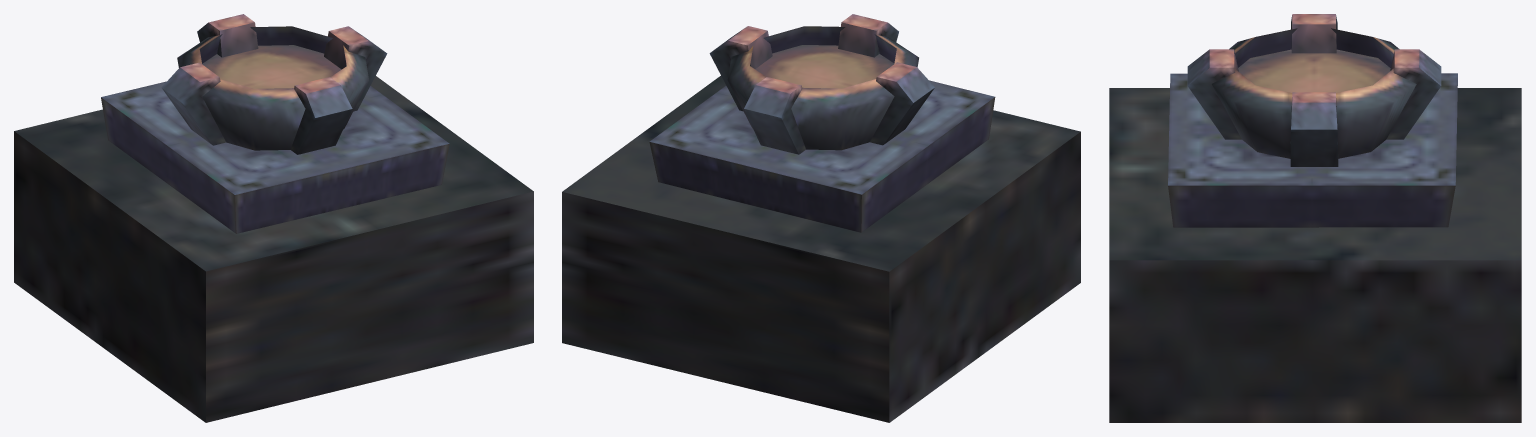
Rendered from tlfb_huolu2.FBX.
3 renders of one model, left to right at view 1: azimuth 30°, elevation 25°; view 2: azimuth 150°, elevation 25°; view 3: azimuth 270°, elevation 25°, orthographic. The views are drawn at different scales.
Parts seen in each view (by area): view 1: tlfb_huolu2; view 2: tlfb_huolu2; view 3: tlfb_huolu2.
Boxes of the visible parts, box(x1,y1,x2,y2) form: tlfb_huolu2: box(14, 14, 533, 422); tlfb_huolu2: box(562, 14, 1080, 422); tlfb_huolu2: box(1109, 14, 1521, 422).
Bounding box in the file's own units: 50.31 × 37.98 × 50.96.
